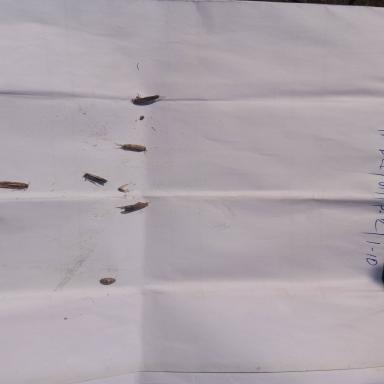pbw: (115, 138, 162, 161), (1, 172, 36, 201), (74, 169, 112, 193), (110, 200, 152, 216), (127, 92, 170, 106)
